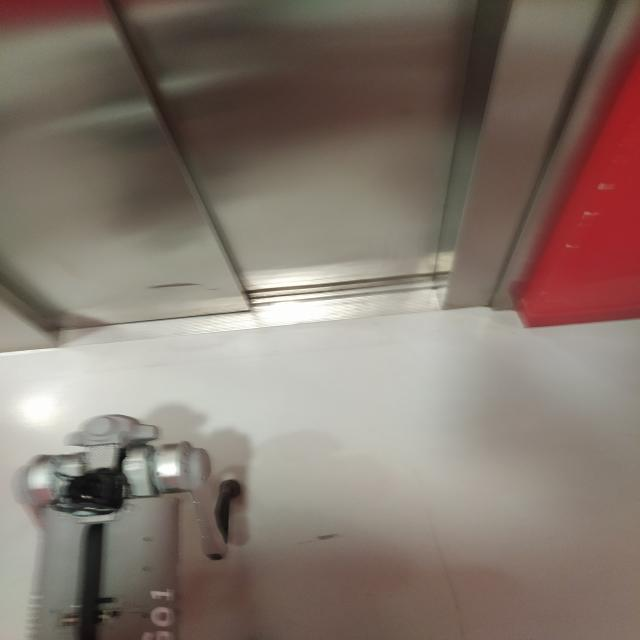unitree-go1-robot: (5, 401, 261, 640)
